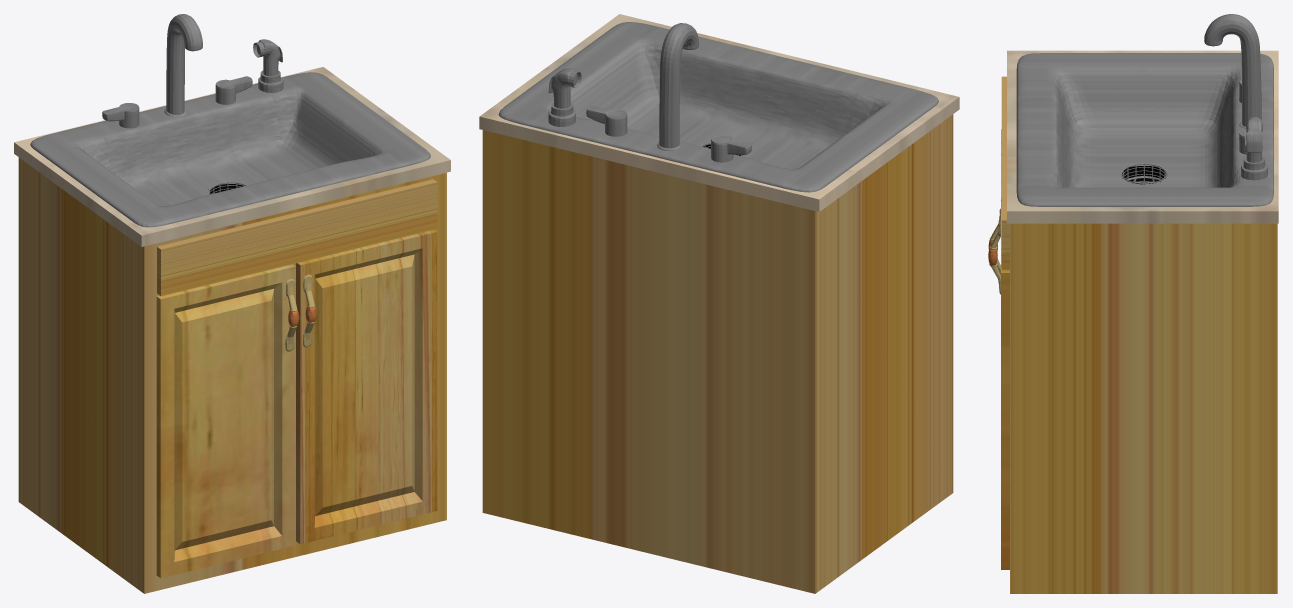
The model's file is kitchenSinkWithMarble.obj.
3 views of the same model, side by side, from view 1: azimuth 30°, elevation 25°; view 2: azimuth 150°, elevation 25°; view 3: azimuth 270°, elevation 25° (orthographic). The views are drawn at different scales.
Parts seen in each view (by area): view 1: PolyMesh_1_1, PolyMesh_1_6, PolyMesh_1_5, PolyMesh_2, Cube_3, PolyMesh_1_7, PolyMesh_1, PolyMesh_1_4, PolyMesh_2_1, PolyMesh_2_2; view 2: PolyMesh_1_1, PolyMesh_2, PolyMesh_1_7, PolyMesh_1, PolyMesh_1_4, PolyMesh_2_1, PolyMesh_2_2; view 3: PolyMesh_1_1, PolyMesh_2, PolyMesh_1_7, PolyMesh_1_6, PolyMesh_1, Cube_3, PolyMesh_1_4, Draincover, Drain, PolyMesh_3.
Boxes of the visible parts, <box> form: PolyMesh_1_1: <box>18,157,446,593</box>; PolyMesh_1_6: <box>296,230,437,544</box>; PolyMesh_1_5: <box>156,264,295,578</box>; PolyMesh_2: <box>30,72,430,227</box>; Cube_3: <box>157,179,437,296</box>; PolyMesh_1_7: <box>14,67,450,246</box>; PolyMesh_1: <box>166,14,202,114</box>; PolyMesh_1_4: <box>253,39,282,76</box>; PolyMesh_2_1: <box>215,76,252,104</box>; PolyMesh_2_2: <box>102,103,139,128</box>; PolyMesh_1_1: <box>482,114,953,593</box>; PolyMesh_2: <box>498,22,938,192</box>; PolyMesh_1_7: <box>479,14,959,211</box>; PolyMesh_1: <box>659,23,698,148</box>; PolyMesh_1_4: <box>548,68,581,108</box>; PolyMesh_2_1: <box>586,105,627,136</box>; PolyMesh_2_2: <box>711,134,751,162</box>; PolyMesh_1_1: <box>1010,223,1277,593</box>; PolyMesh_2: <box>1016,53,1273,206</box>; PolyMesh_1_7: <box>1007,50,1278,223</box>; PolyMesh_1_6: <box>1001,201,1009,569</box>; PolyMesh_1: <box>1204,14,1261,126</box>; Cube_3: <box>1001,76,1009,270</box>; PolyMesh_1_4: <box>1246,117,1262,162</box>; Draincover: <box>1121,163,1167,184</box>; Drain: <box>1122,166,1165,184</box>; PolyMesh_3: <box>1241,156,1267,180</box>.
Size of the model in its own units: 3.67 by 5.29 by 2.8.
6 materials, 4 textured.
